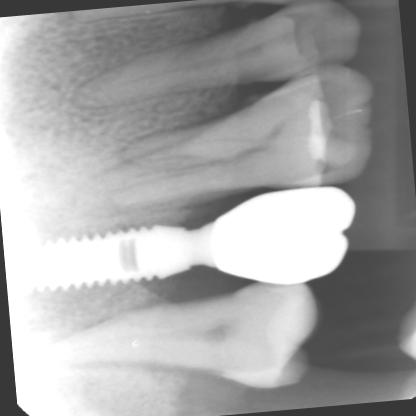Bicon: (3, 218, 198, 298)
